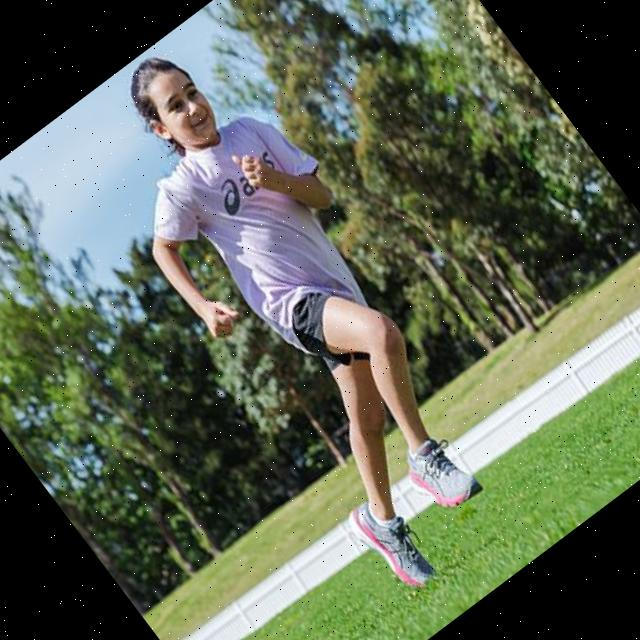Person: (52, 14, 560, 600)
